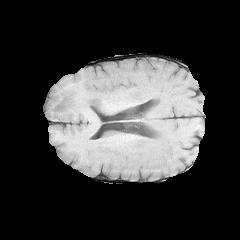glioma: (46, 88, 105, 135)
